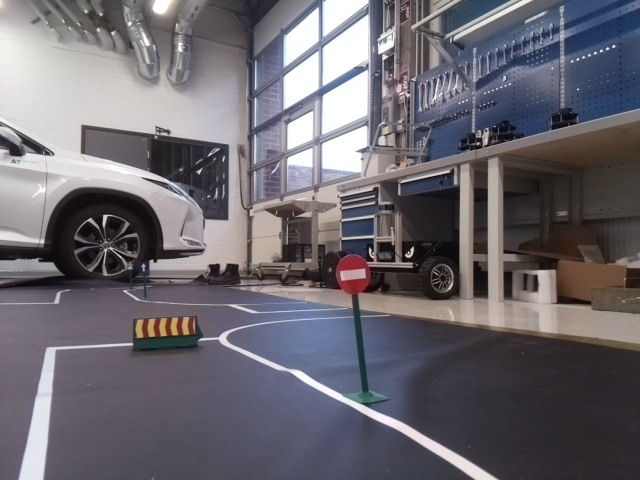ClosedRoadStand: (129, 313, 196, 337)
NoEntry: (335, 254, 370, 294)
